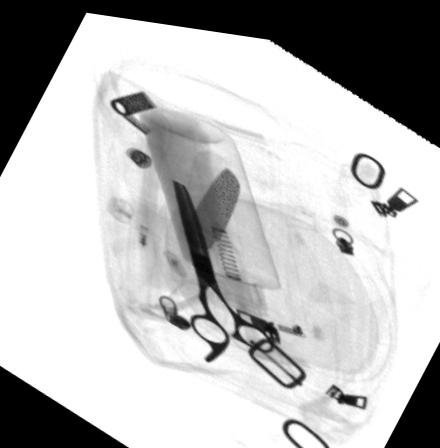Knife: (180, 158, 241, 251)
Scissors: (170, 174, 278, 357)
